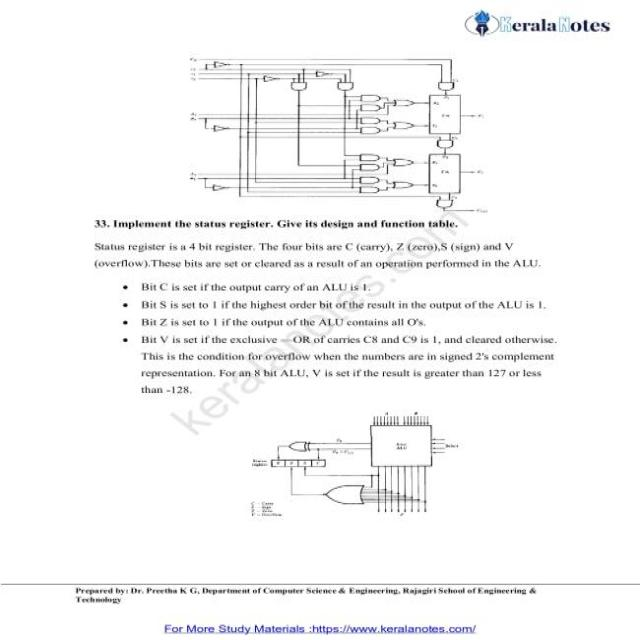Figure Detection - v3 Dataset Version2: (178, 43, 494, 218), (236, 404, 475, 536)
